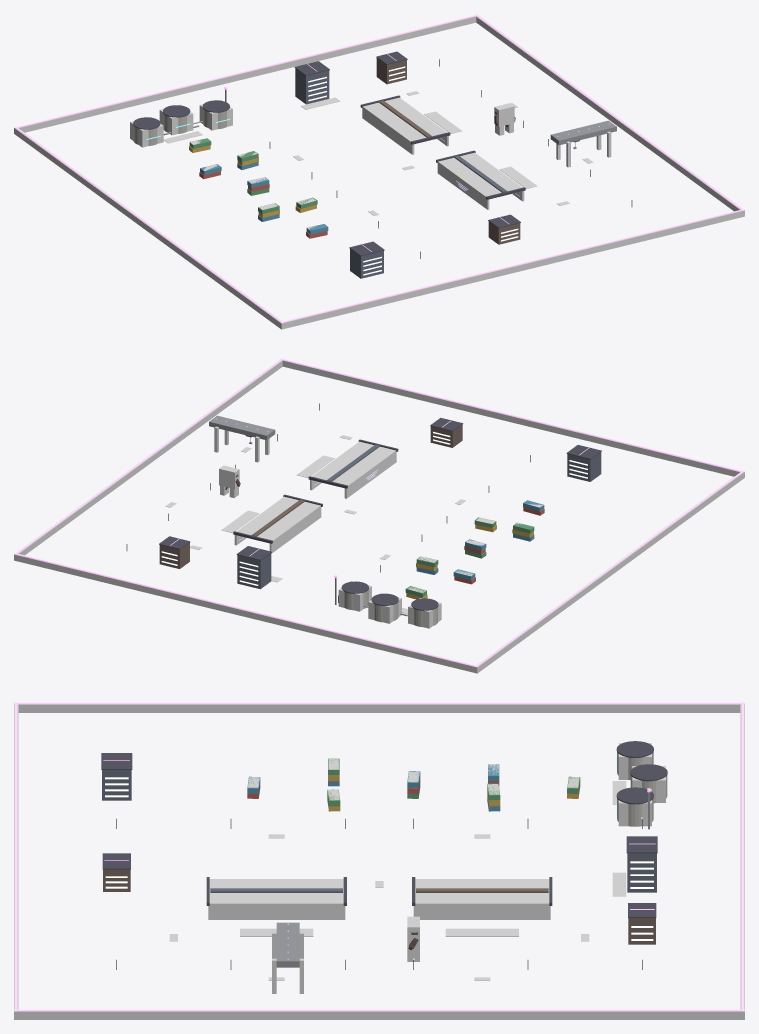
Rendered from arena-docks.glb.
3 views of the same model, one above another, from view 1: azimuth 30°, elevation 25°; view 2: azimuth 150°, elevation 25°; view 3: azimuth 270°, elevation 25° (orthographic). The views are drawn at different scales.
Visible parts, largest first — view 1: COL_Wall_0-1, COL_Wall_01, COL_Wall_-10, COL_Wall_10, COL_WhARoof, COL_WhBRoof, OffC, Neon_0-1, Neon_01, CraneBeam, OffA, Neon_10 (+5 smaller); view 2: COL_Wall_01, COL_Wall_0-1, COL_Wall_-10, COL_Wall_10, COL_WhBRoof, COL_WhARoof, OffC, Neon_0-1, Neon_01, CraneBeam, OffA, Neon_10 (+4 smaller); view 3: COL_Wall_10, COL_Wall_-10, COL_WhARoof, COL_WhBRoof, COL_WhAW56, COL_WhBW56, Neon_-10, Neon_10, CraneBeam, OffC, COL_Wall_0-1, COL_Wall_01 (+12 smaller).
Part boxes in pixels (x1=…): COL_Wall_0-1: x1=280, y1=210, x2=744, y2=329; COL_Wall_01: x1=14, y1=16, x2=476, y2=134; COL_Wall_-10: x1=14, y1=128, x2=283, y2=328; COL_Wall_10: x1=476, y1=16, x2=742, y2=211; COL_WhARoof: x1=438, y1=152, x2=521, y2=197; COL_WhBRoof: x1=362, y1=97, x2=446, y2=142; OffC: x1=295, y1=68, x2=329, y2=104; Neon_0-1: x1=280, y1=209, x2=744, y2=322; Neon_01: x1=14, y1=14, x2=478, y2=128; CraneBeam: x1=550, y1=120, x2=616, y2=145; OffA: x1=350, y1=249, x2=383, y2=278; Neon_10: x1=475, y1=14, x2=744, y2=210; COL_Wall_01: x1=14, y1=554, x2=478, y2=673; COL_Wall_0-1: x1=282, y1=360, x2=740, y2=476; COL_Wall_-10: x1=474, y1=472, x2=744, y2=673; COL_Wall_10: x1=14, y1=360, x2=282, y2=560; COL_WhBRoof: x1=237, y1=496, x2=320, y2=541; COL_WhARoof: x1=312, y1=441, x2=396, y2=486; OffC: x1=237, y1=553, x2=271, y2=589; Neon_0-1: x1=280, y1=358, x2=744, y2=472; Neon_01: x1=14, y1=553, x2=478, y2=666; CraneBeam: x1=209, y1=415, x2=275, y2=440; OffA: x1=567, y1=452, x2=601, y2=481; Neon_10: x1=14, y1=358, x2=283, y2=554; COL_Wall_10: x1=14, y1=1011, x2=744, y2=1019; COL_Wall_-10: x1=14, y1=704, x2=744, y2=712; COL_WhARoof: x1=209, y1=879, x2=343, y2=905; COL_WhBRoof: x1=415, y1=879, x2=549, y2=905; COL_WhAW56: x1=208, y1=905, x2=345, y2=919; COL_WhBW56: x1=413, y1=905, x2=550, y2=919; Neon_-10: x1=14, y1=702, x2=744, y2=703; Neon_10: x1=14, y1=1009, x2=744, y2=1010; CraneBeam: x1=276, y1=922, x2=299, y2=967; OffC: x1=627, y1=853, x2=656, y2=892; COL_Wall_0-1: x1=14, y1=704, x2=18, y2=1019; COL_Wall_01: x1=740, y1=704, x2=744, y2=1019.
Size of the model in its own units: 320 by 19.8 by 320.
15 materials, 1 textured.
